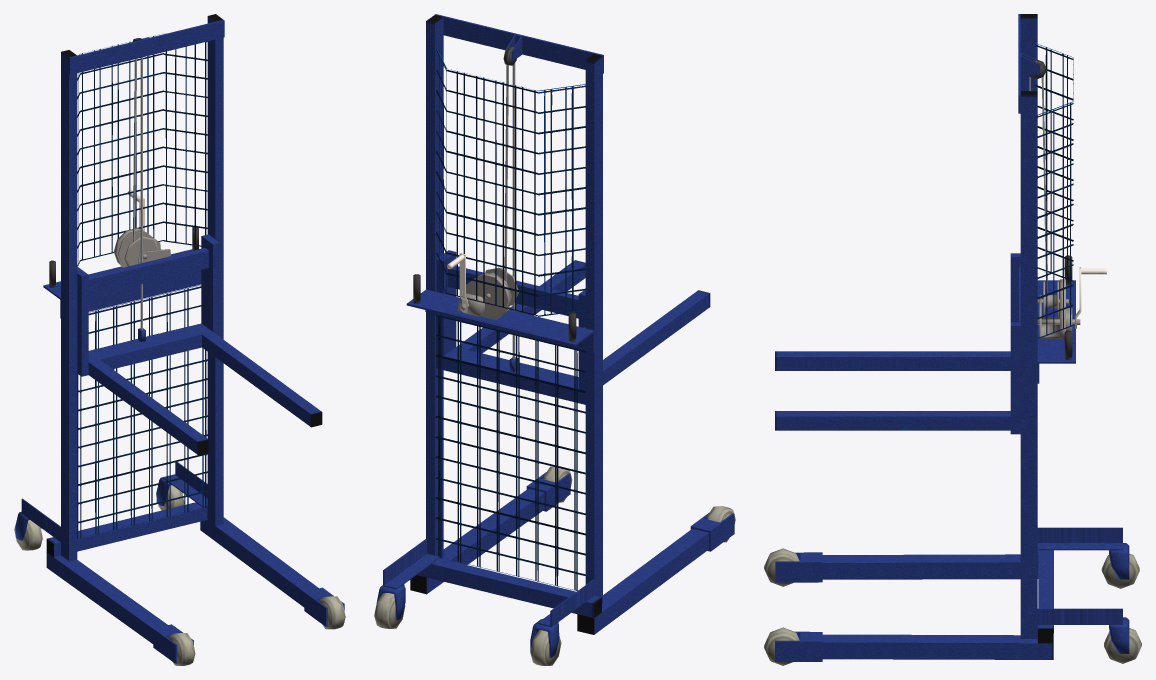
File: CaskLift.fbx
3 renders of one model, left to right at view 1: azimuth 30°, elevation 25°; view 2: azimuth 150°, elevation 25°; view 3: azimuth 270°, elevation 25°, orthographic. The views are drawn at different scales.
Parts seen in each view (by area): view 1: MainFrame, Forks, WinchReel, Cable, WheelFL, WheelFR, WheelBR; view 2: MainFrame, Forks, WheelBL, Cable, WheelBR; view 3: MainFrame, Forks, WheelBL, WheelBR, WheelFR, WheelFL.
Part boxes in pixels (x1,y1,x2,y2): MainFrame: (15, 14, 344, 663); Forks: (77, 234, 322, 454); WinchReel: (117, 231, 159, 266); Cable: (140, 57, 142, 329); WheelFL: (319, 596, 345, 629); WheelFR: (168, 632, 195, 665); WheelBR: (14, 520, 42, 550); MainFrame: (376, 14, 734, 657); Forks: (436, 250, 710, 404); WheelBL: (374, 593, 405, 628); Cable: (512, 63, 515, 359); WheelBR: (530, 630, 561, 665); MainFrame: (775, 14, 1129, 661); Forks: (775, 253, 1020, 434); WheelBL: (1104, 628, 1141, 663); WheelBR: (1101, 553, 1139, 588); WheelFR: (764, 548, 799, 586); WheelFL: (764, 627, 799, 665).
Size of the model in its own units: 55.55 by 165 by 99.45.
Materials: 1 (1 with a texture image).
